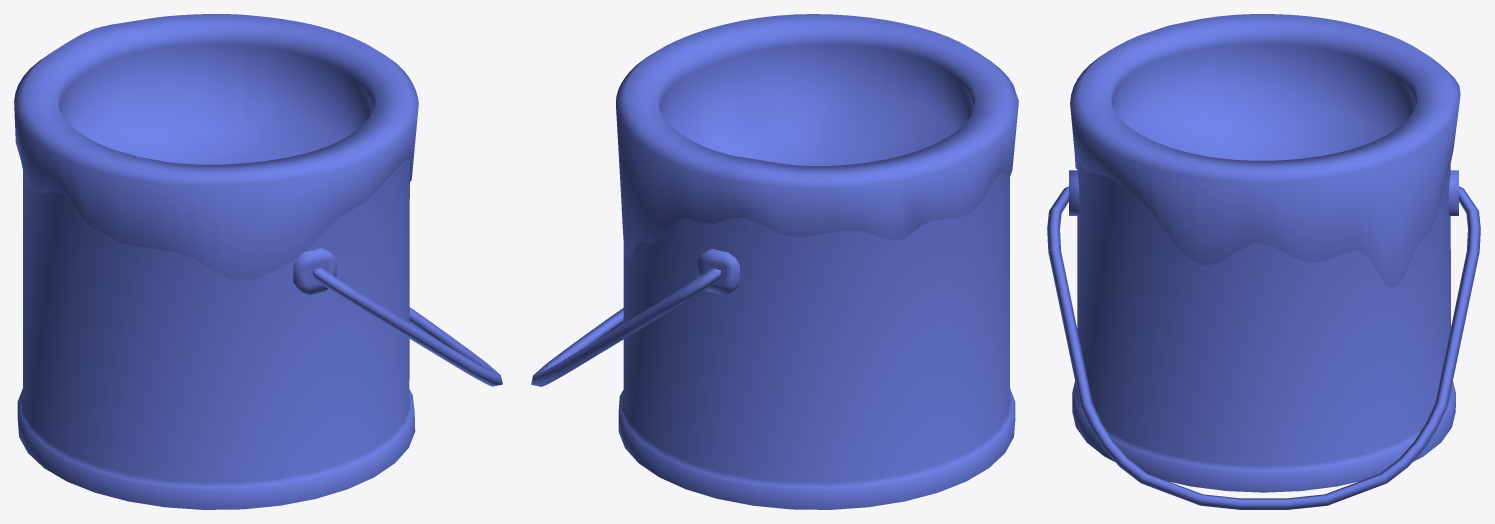
Rendered from SM_paintBucket.fbx.
3 renders of one model, left to right at view 1: azimuth 30°, elevation 25°; view 2: azimuth 150°, elevation 25°; view 3: azimuth 270°, elevation 25°, orthographic. The views are drawn at different scales.
Parts seen in each view (by area): view 1: Bucket_low; view 2: Bucket_low; view 3: Bucket_low.
Part boxes in pixels (<box>): Bucket_low: <box>14,14,502,509</box>; Bucket_low: <box>531,14,1018,509</box>; Bucket_low: <box>1047,14,1480,509</box>.
Size of the model in its own units: 118 by 89.93 by 110.
